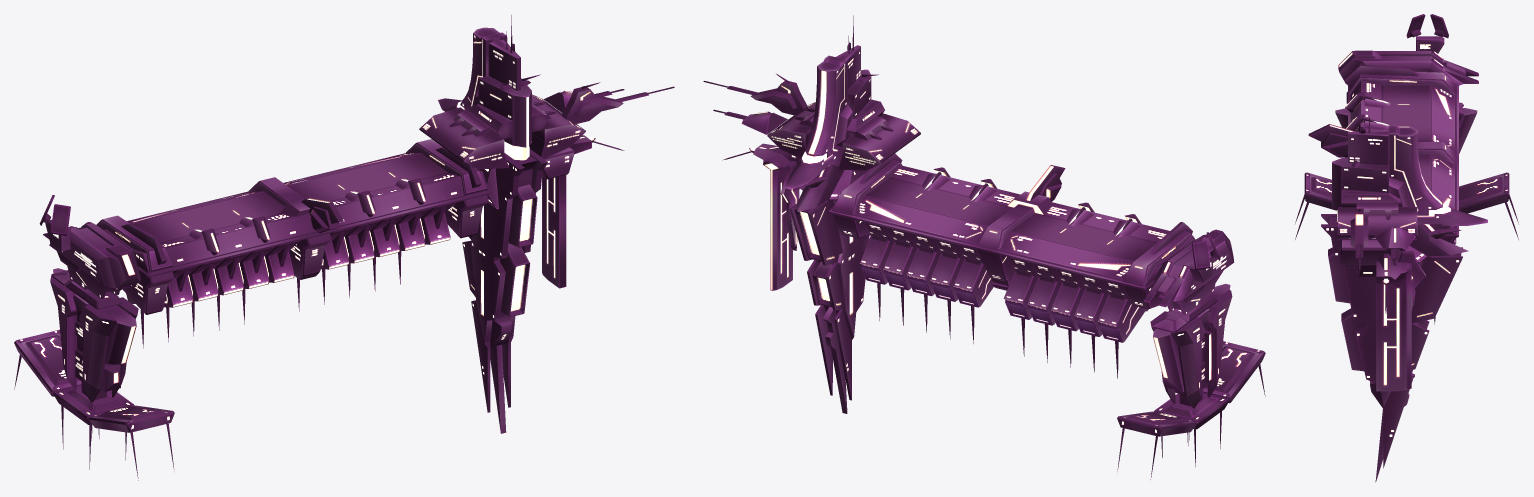
The picture shows the model from 3 angles, left to right: view 1: azimuth 30°, elevation 25°; view 2: azimuth 150°, elevation 25°; view 3: azimuth 270°, elevation 25°; orthographic projection. The views are drawn at different scales.
Parts seen in each view (by area): view 1: body; view 2: body; view 3: body.
Part boxes in pixels (x1,y1,x2,y2): body: [14, 15, 674, 480]; body: [703, 15, 1265, 479]; body: [1295, 14, 1518, 482].
Bounding box in the file's own units: 2981 × 2052 × 1090.
Materials: 4 (4 with a texture image).
